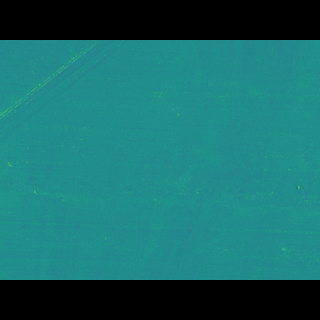Loch: (9, 147, 320, 252), (150, 69, 306, 235), (0, 70, 131, 152)
